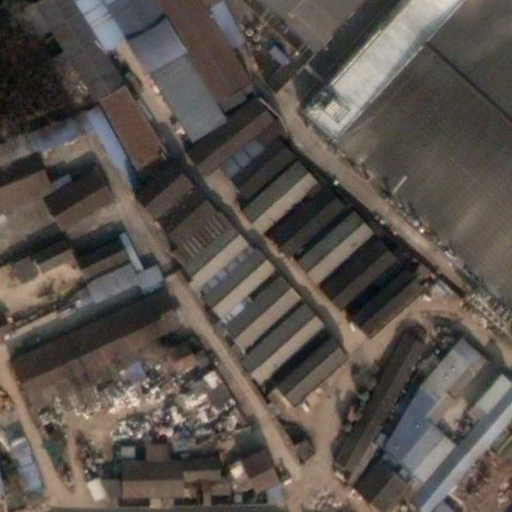msw: (52, 373, 248, 445)
